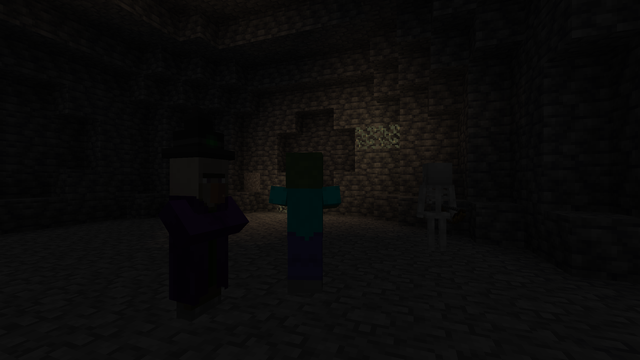sorcieres: (160, 149, 235, 326)
squelettes: (422, 162, 452, 254)
zombies: (277, 155, 330, 301)
